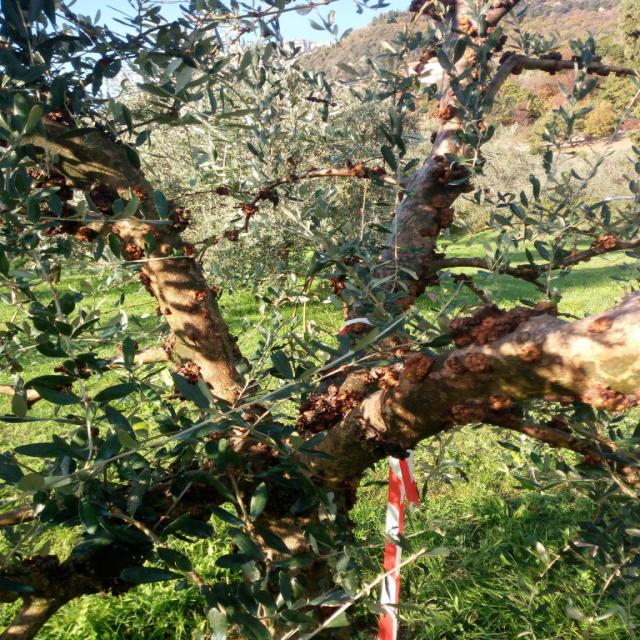Tuberculosis: (448, 304, 538, 348), (428, 153, 474, 230), (297, 386, 367, 434), (441, 396, 527, 434), (541, 386, 639, 412), (392, 265, 438, 314), (442, 346, 492, 376), (400, 352, 431, 383), (343, 161, 387, 179), (578, 314, 612, 335), (371, 366, 398, 389), (177, 361, 202, 385), (515, 341, 541, 362), (590, 234, 618, 253), (435, 102, 456, 125), (122, 242, 143, 260), (238, 204, 258, 218), (540, 52, 562, 59)
